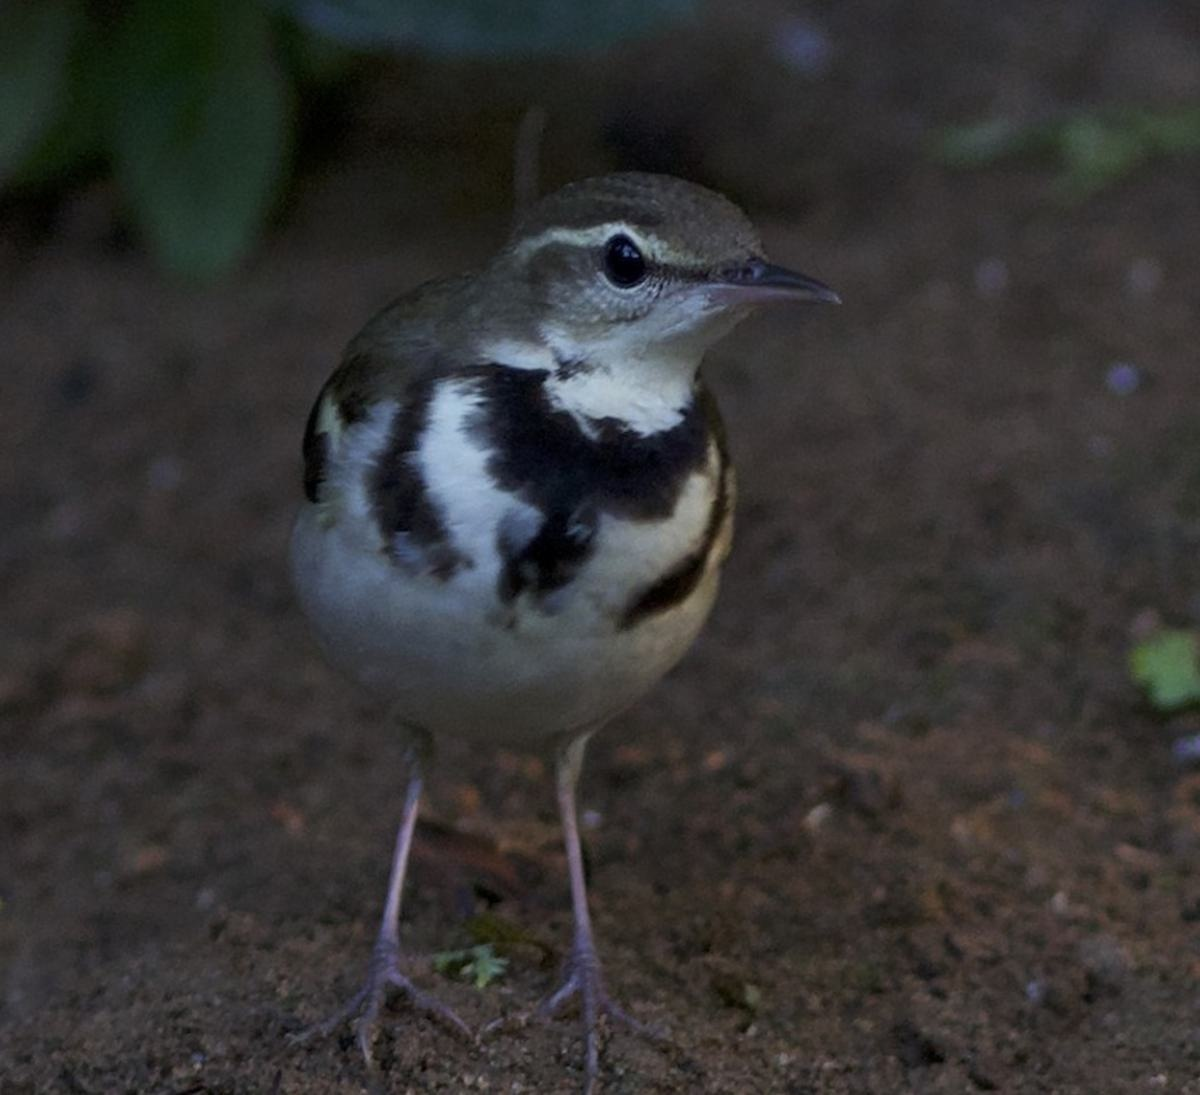wagtail: (249, 122, 887, 941)
